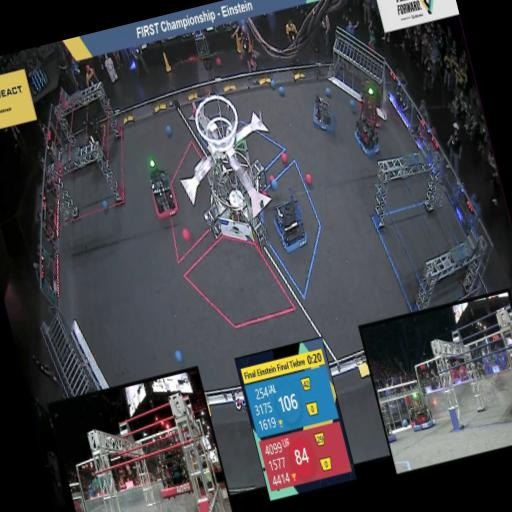robot: (149, 431, 195, 501), (269, 194, 314, 254), (144, 156, 182, 220), (403, 388, 440, 434), (306, 92, 342, 138), (350, 112, 384, 160), (354, 84, 384, 131), (82, 112, 110, 150), (379, 402, 398, 444)
